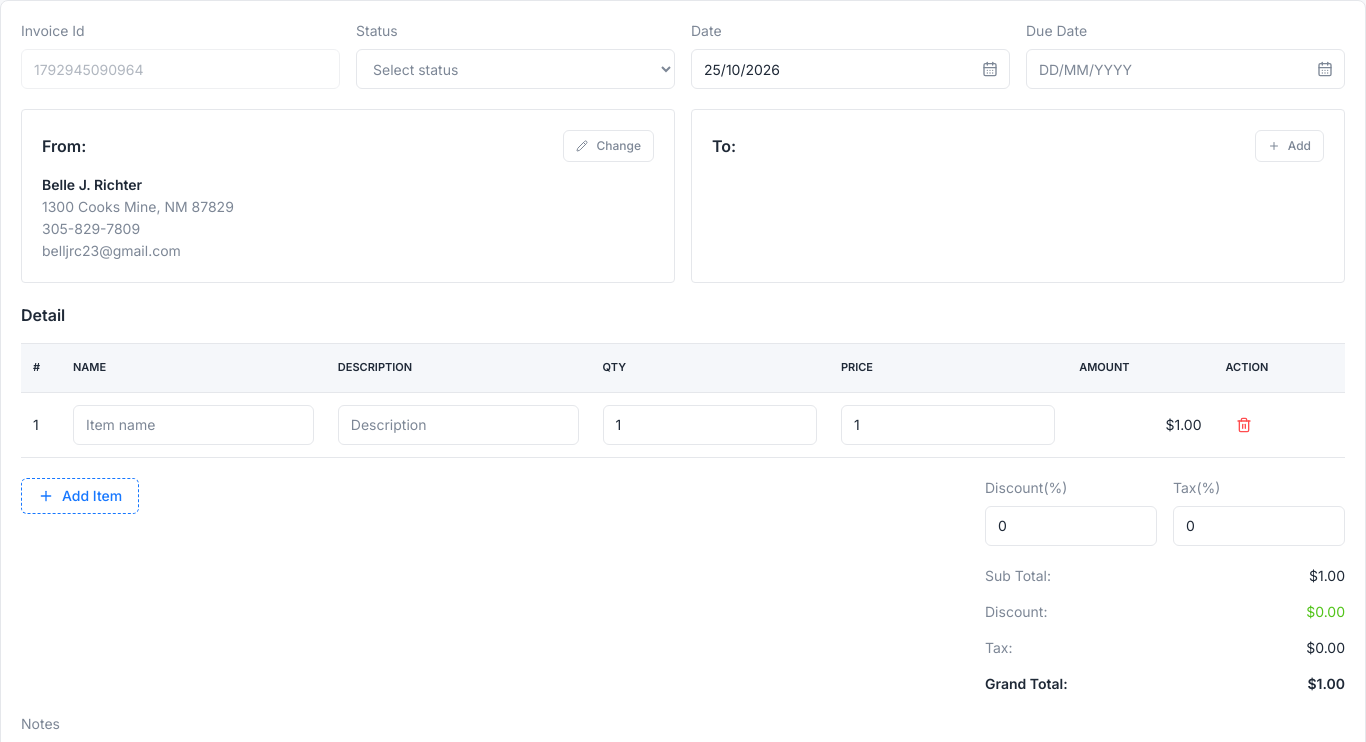
it: Create Invoice › adds a custom address without submitting the invoice form
This screenshot has width=1366, height=742.
Click the button with aria-label "Add recipient address" at coordinates (1289, 146), box top-left (1255, 130), bottom-right (1324, 162)
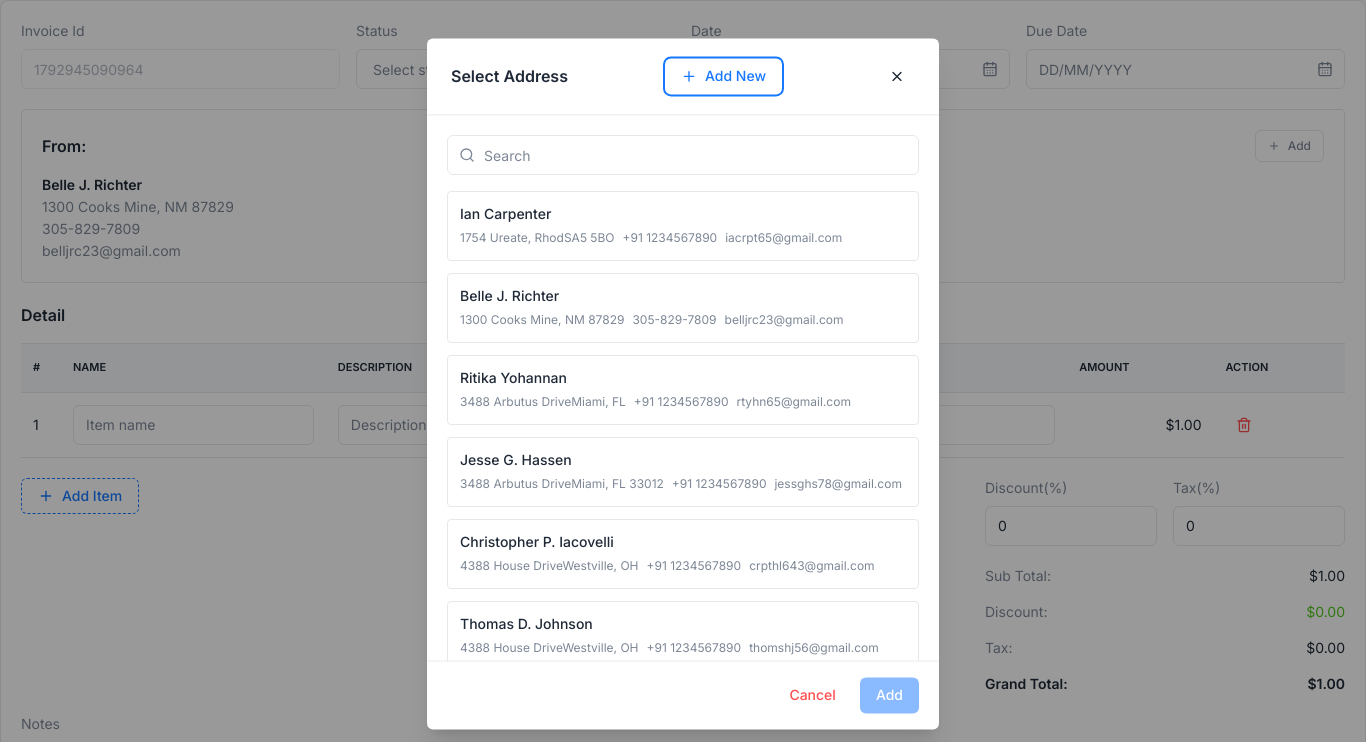
Click the button "Add New" at coordinates (723, 76), box top-left (665, 58), bottom-right (782, 94)
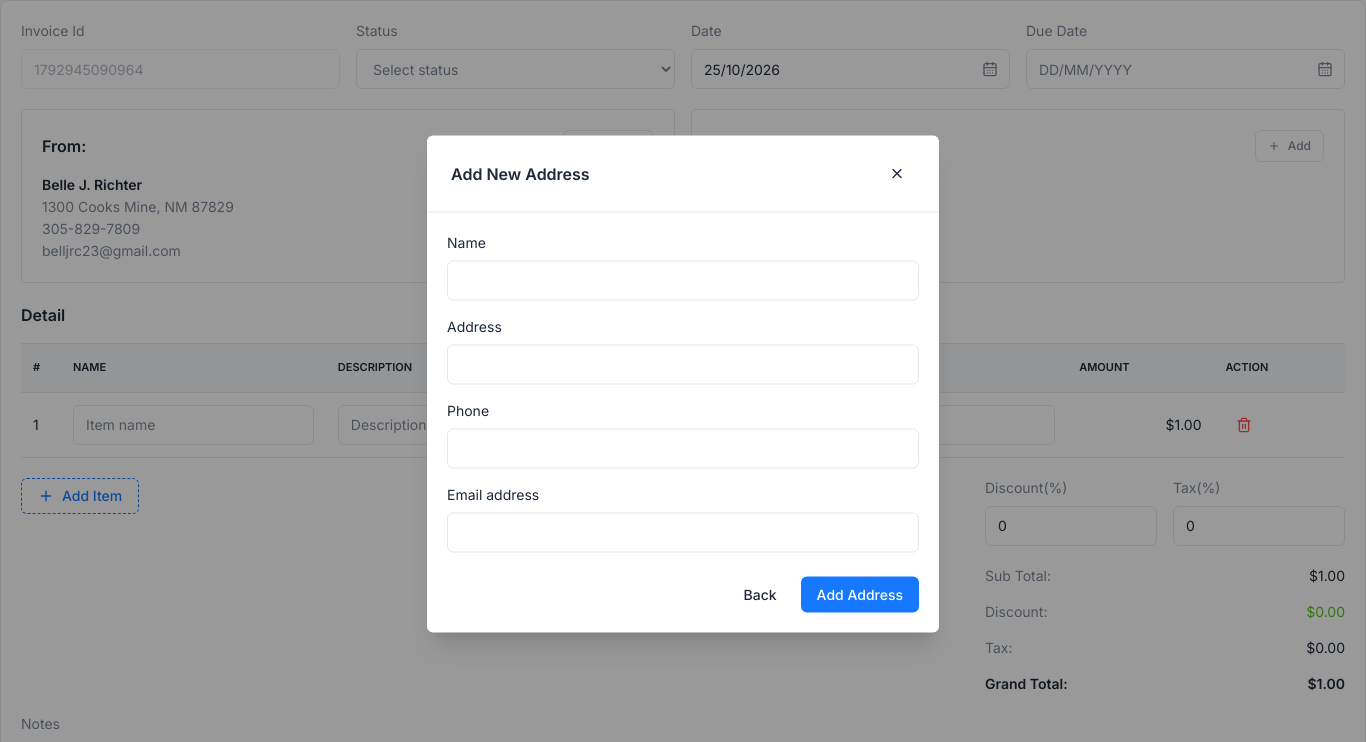
Type "New Client" into the field labelled "Name" at coordinates (683, 280), box top-left (447, 260), bottom-right (919, 300)
Type "20 Main Street" into the field labelled "Address" at coordinates (683, 364), box top-left (447, 344), bottom-right (919, 384)
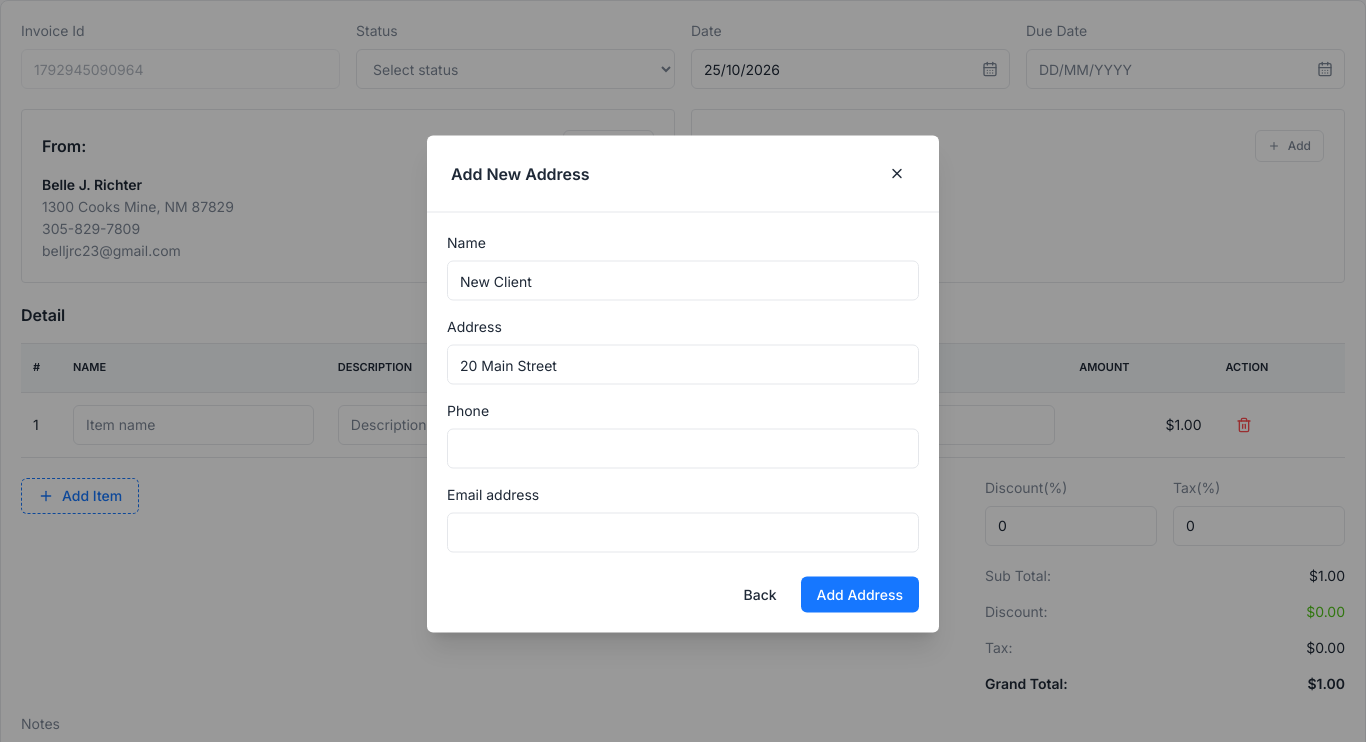
Type "12345678" into the field labelled "Phone" at coordinates (683, 448), box top-left (447, 428), bottom-right (919, 468)
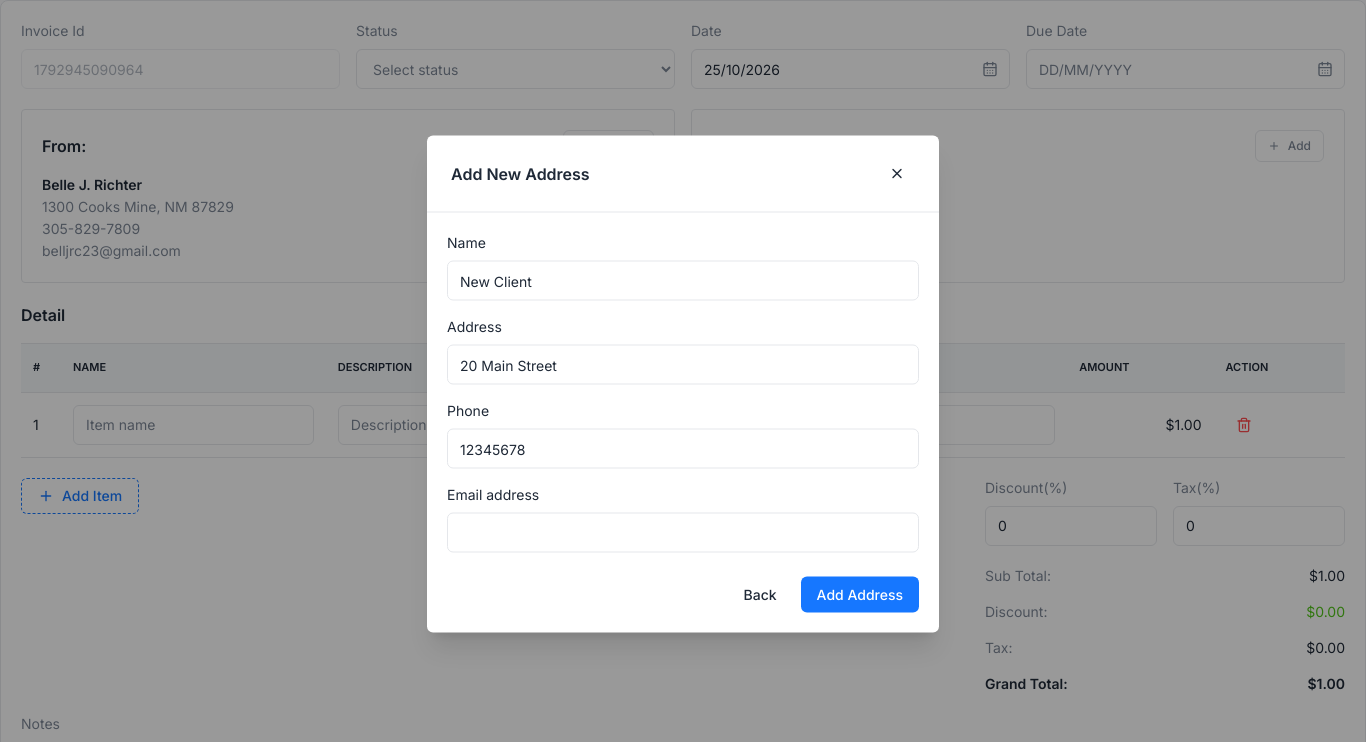
Type "client@example.com" into the field labelled "Email address" at coordinates (683, 532), box top-left (447, 512), bottom-right (919, 552)
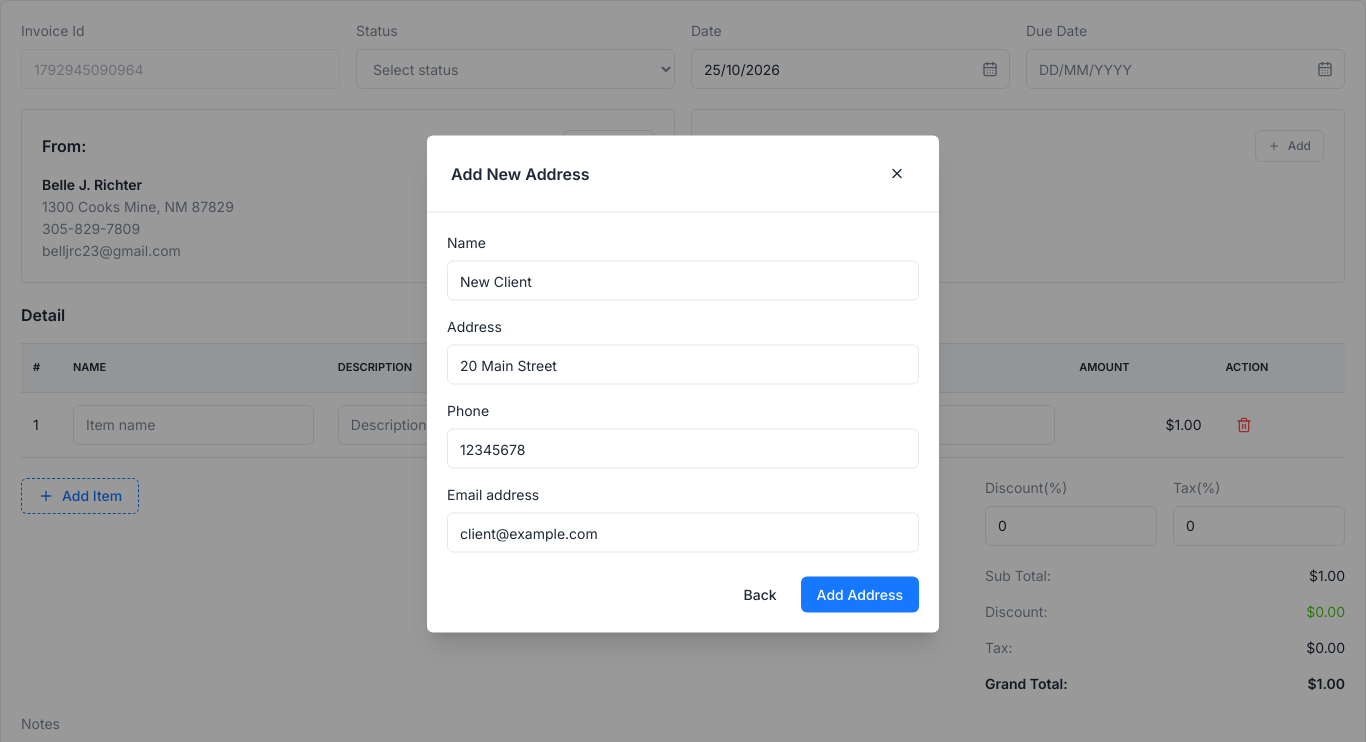
Click the button "Add Address" at coordinates (860, 594), box top-left (801, 576), bottom-right (919, 612)
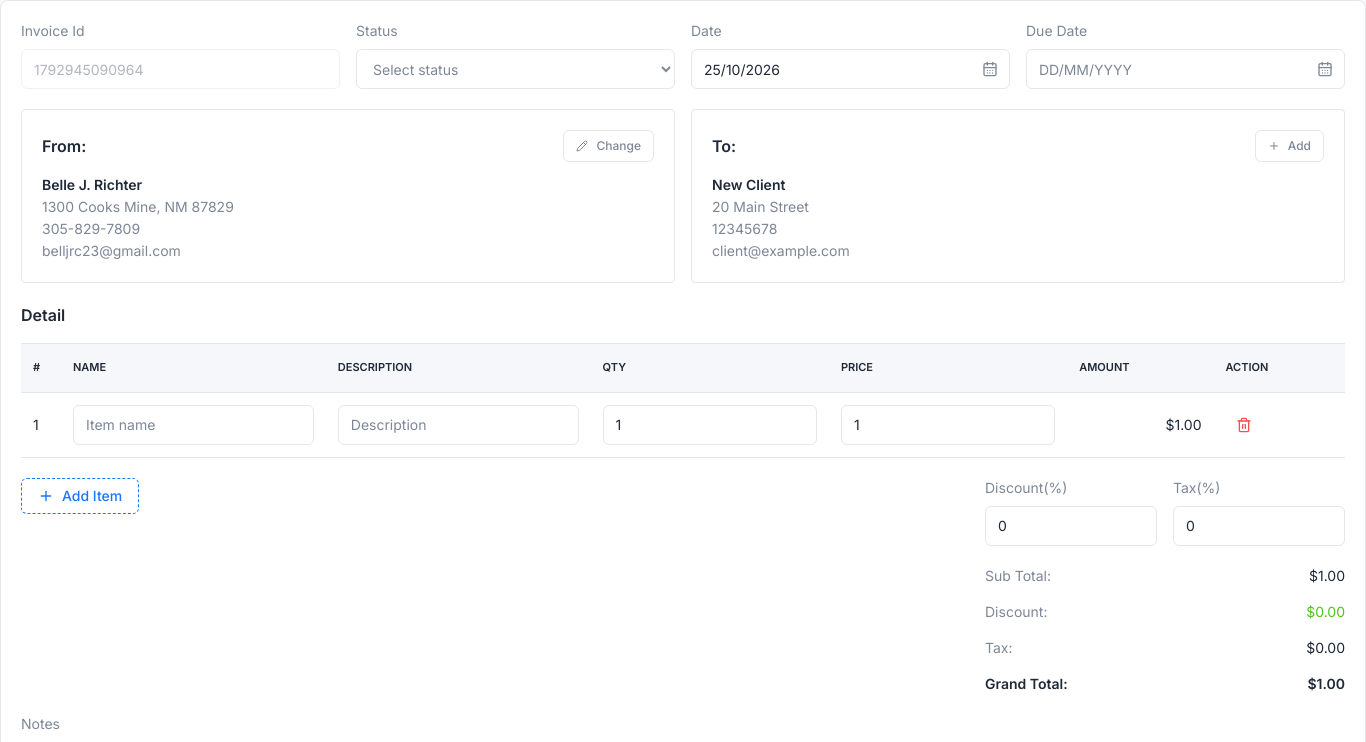
Check: the dialog is gone
Check: the text "New Client" is shown, box top-left (712, 176), bottom-right (785, 193)
Check: the text "client@example.com" is shown, box top-left (712, 242), bottom-right (850, 259)
